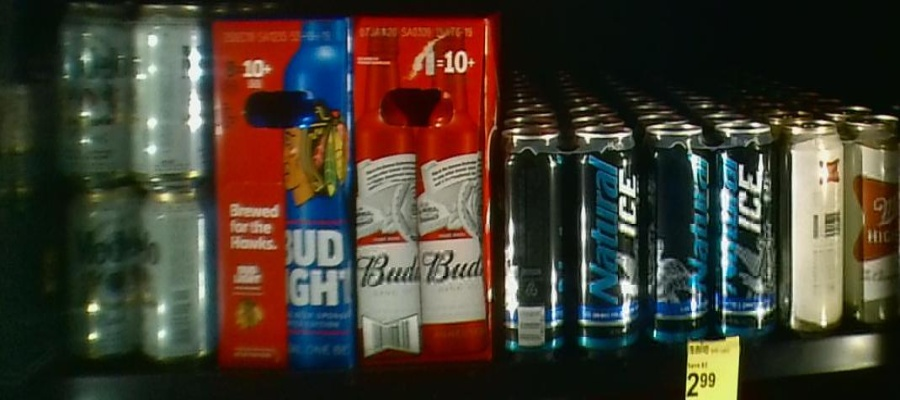bottle: (51, 5, 217, 361), (355, 13, 498, 365), (214, 13, 354, 366), (500, 120, 644, 347), (642, 120, 777, 341), (776, 122, 900, 332)
